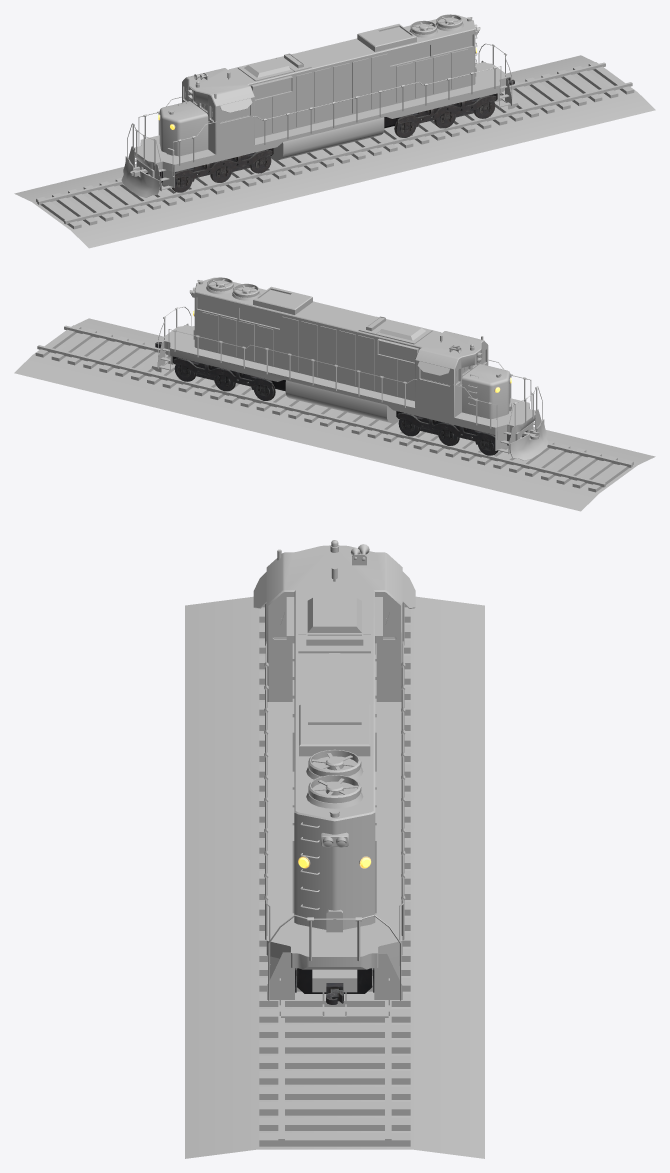
Rendered from enginetrain.fbx.
3 renders of one model, top to bottom at view 1: azimuth 30°, elevation 25°; view 2: azimuth 150°, elevation 25°; view 3: azimuth 270°, elevation 25°, orthographic. The views are drawn at different scales.
Parts seen in each view (by area): view 1: enginetrain, trainrail, wheels; view 2: enginetrain, trainrail, wheels; view 3: trainrail, enginetrain, wheels.
Part boxes in pixels (x1,y1,x2,y2): enginetrain: [121, 14, 518, 197]; trainrail: [14, 55, 655, 248]; wheels: [143, 77, 514, 192]; enginetrain: [151, 277, 548, 460]; trainrail: [14, 318, 655, 511]; wheels: [155, 342, 526, 455]; trainrail: [185, 596, 484, 1158]; enginetrain: [253, 540, 415, 1017]; wheels: [295, 968, 374, 1004].
Bounding box in the file's own units: 5000 × 887 × 1145.
